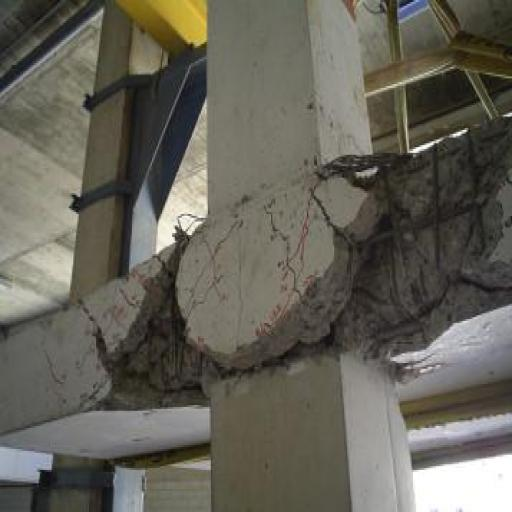spalling: (96, 115, 512, 406), (265, 212, 306, 304), (309, 190, 337, 228)
